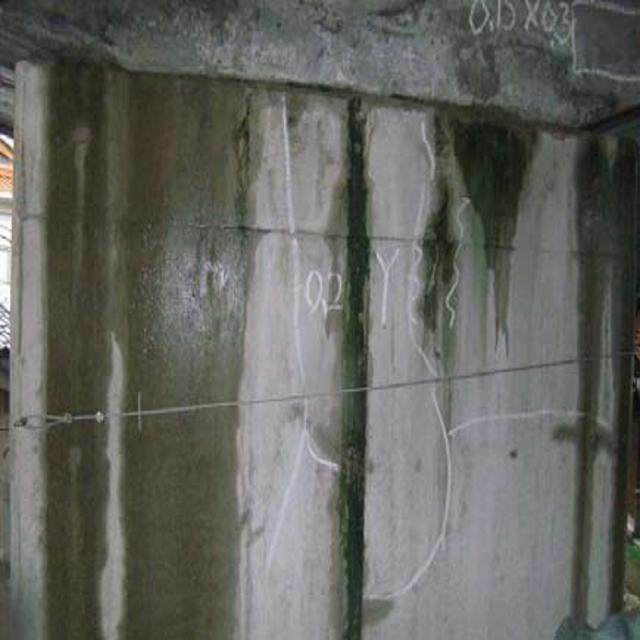leakage: (44, 63, 380, 638), (410, 90, 543, 354)
